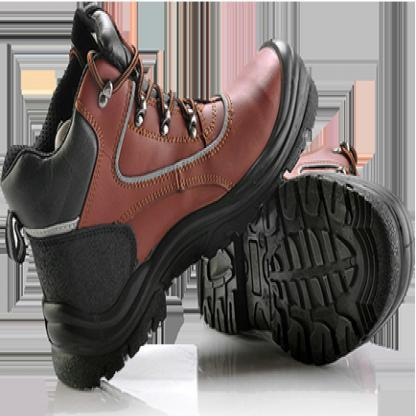bota: (1, 3, 412, 387)
